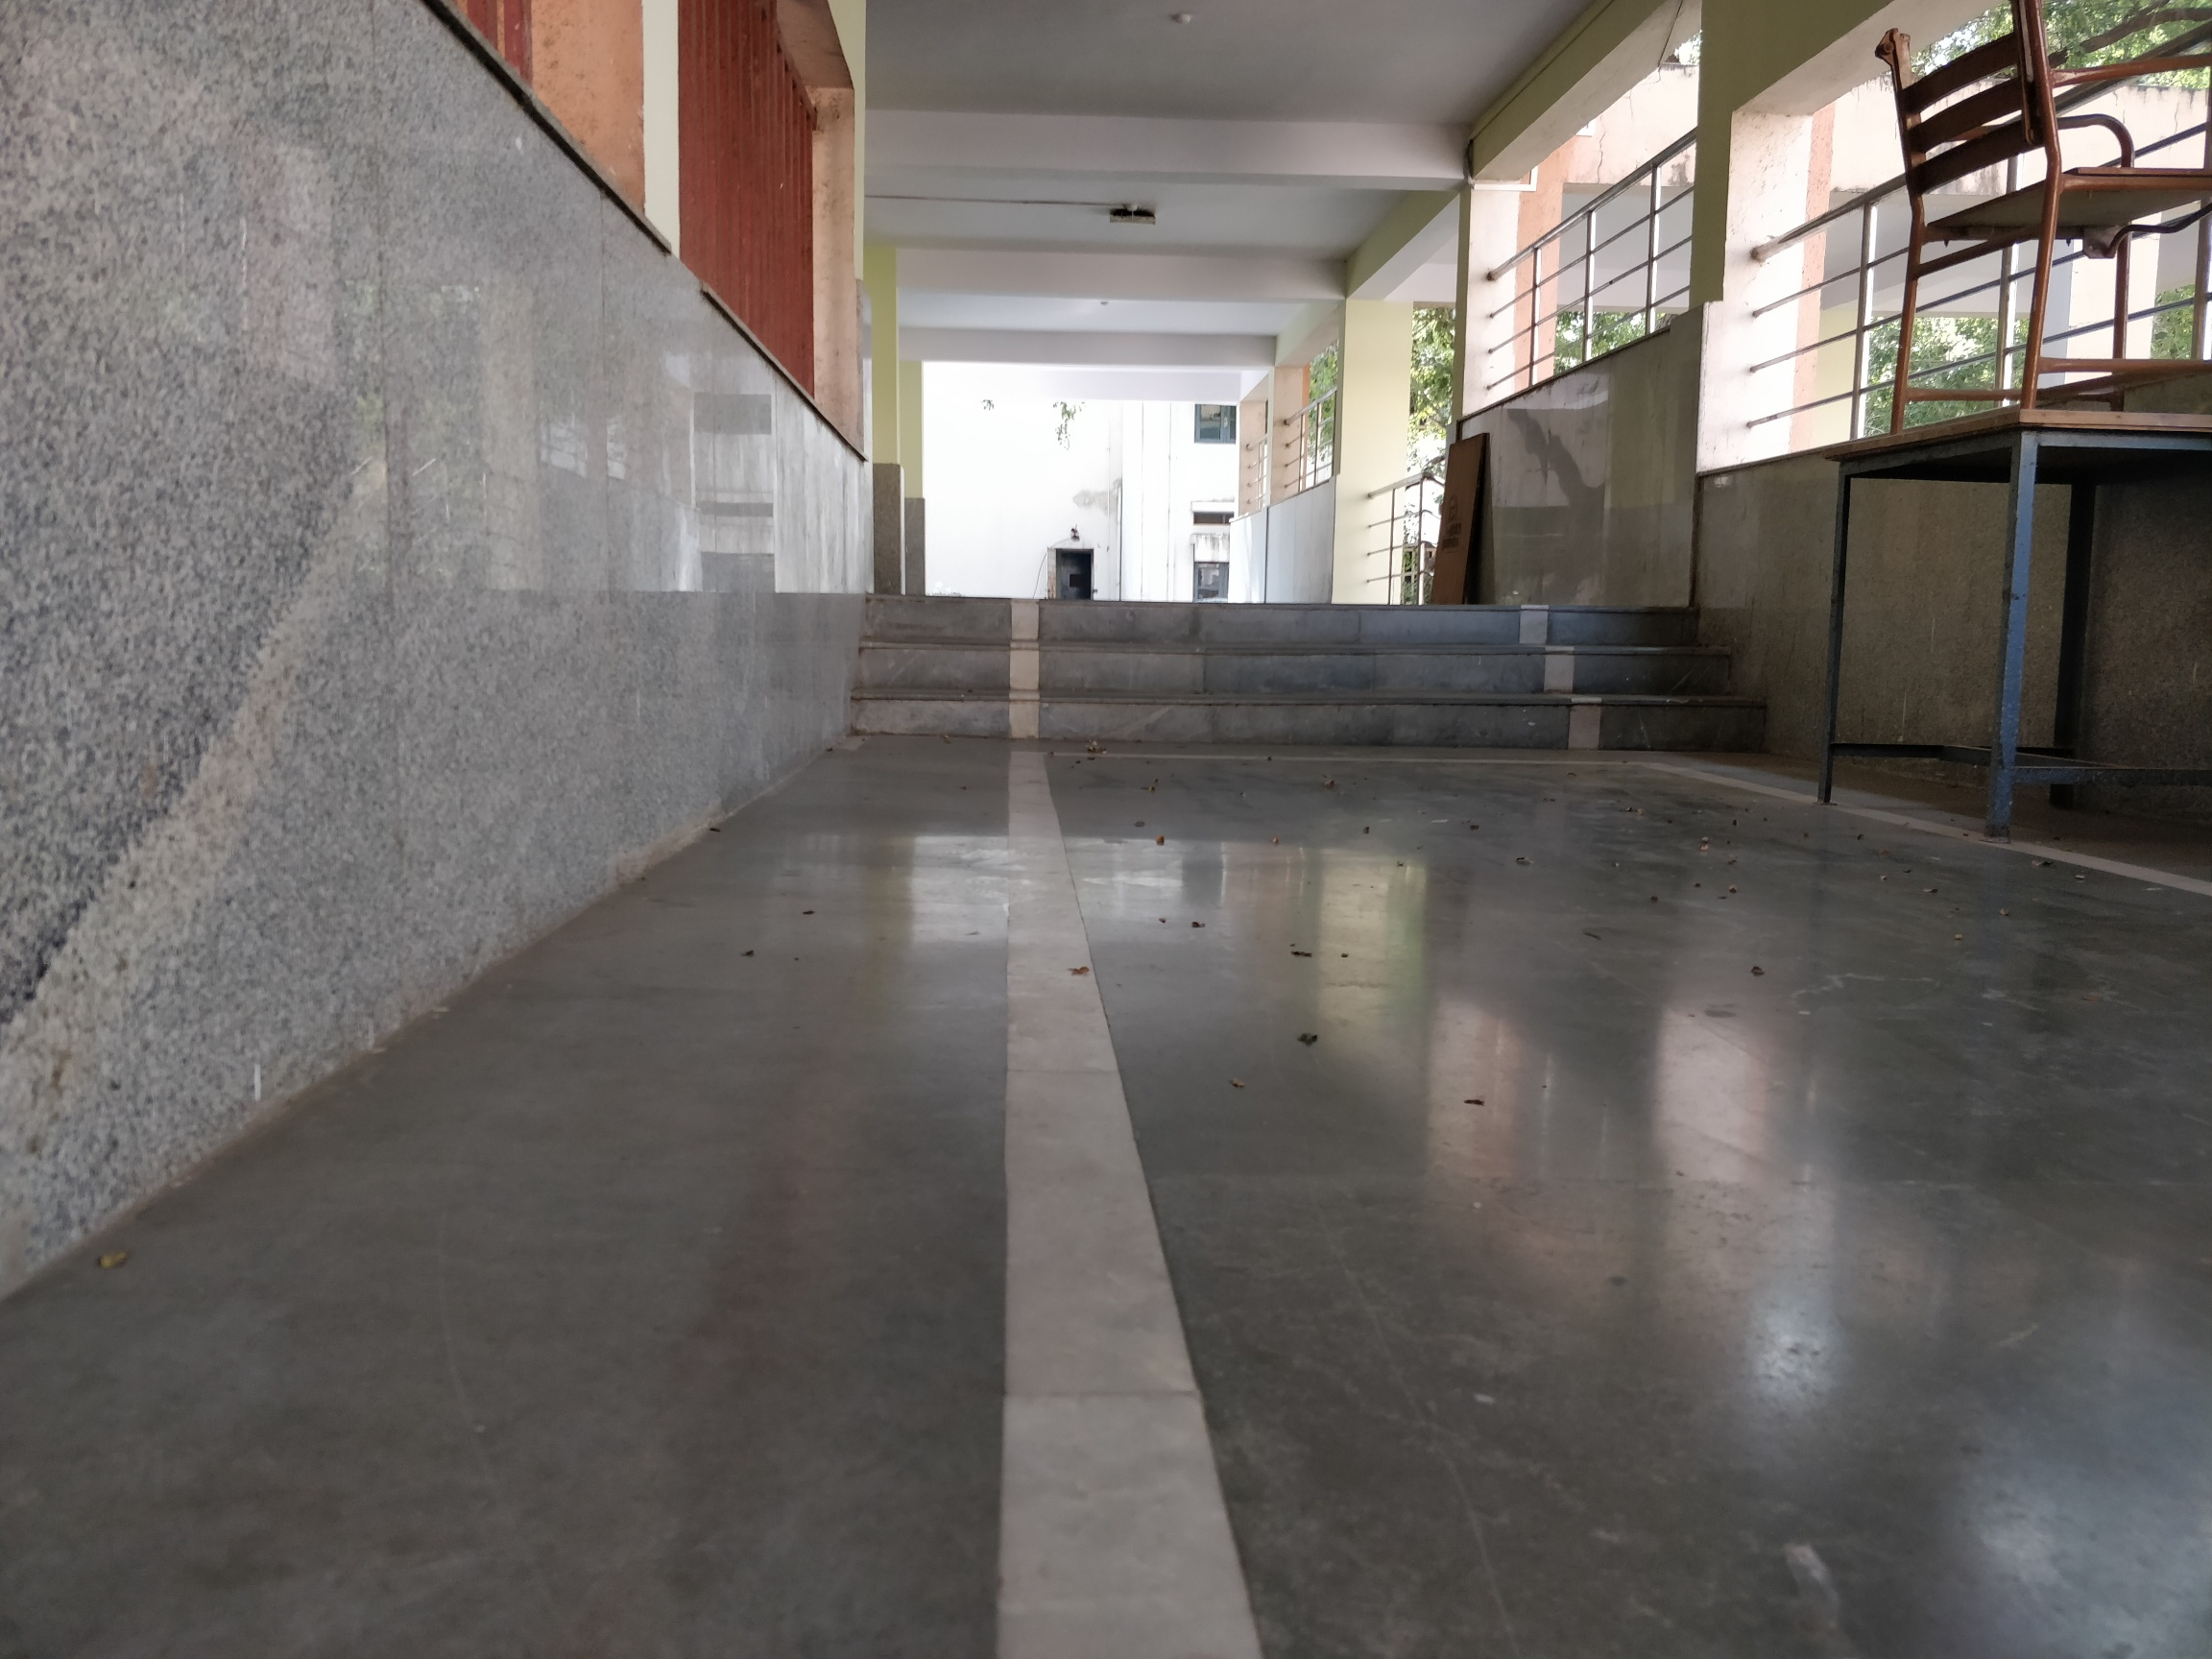stairs_up: (808, 586, 1754, 767)
